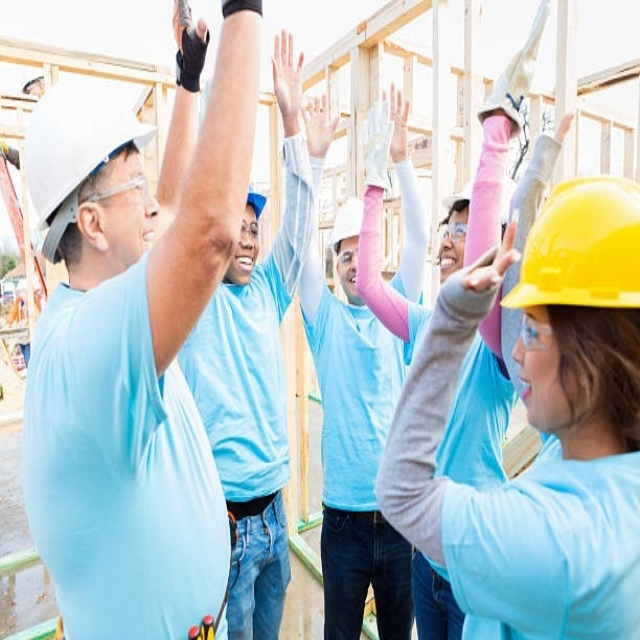Gafas: (84, 169, 151, 220), (521, 309, 555, 351), (435, 220, 467, 246), (335, 246, 359, 268), (241, 216, 260, 237)
Guantes: (478, 5, 553, 121), (361, 93, 395, 195), (180, 16, 207, 91)
Sin_guantes: (461, 205, 526, 292), (268, 19, 306, 129), (382, 83, 410, 158)
Sin_mascara: (231, 253, 259, 279), (137, 213, 157, 249), (438, 249, 459, 282), (343, 271, 357, 300)
